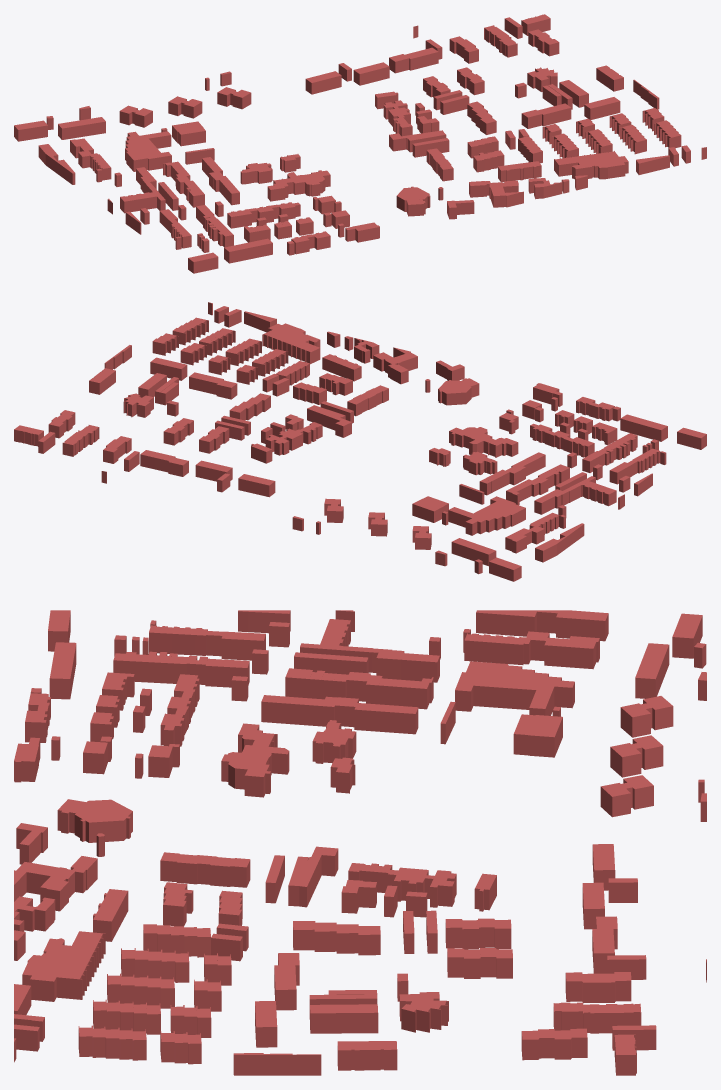
The model's file is 1_SurroundingBuildings.dae.
The picture shows the model from 3 angles, top to bottom: view 1: azimuth 30°, elevation 25°; view 2: azimuth 150°, elevation 25°; view 3: azimuth 270°, elevation 25°; orthographic projection. The views are drawn at different scales.
Visible parts, largest first — view 1: Object (×17); view 2: Object (×13); view 3: Object (×48).
Boxes of the visible parts, box(x1,y1,x2,y2) form: Object (×17): box(119, 67, 628, 211); Object (×13): box(123, 330, 525, 536); Object (×48): box(14, 625, 698, 1070).
Size of the model in its own units: 100 by 2.14 by 65.86.
